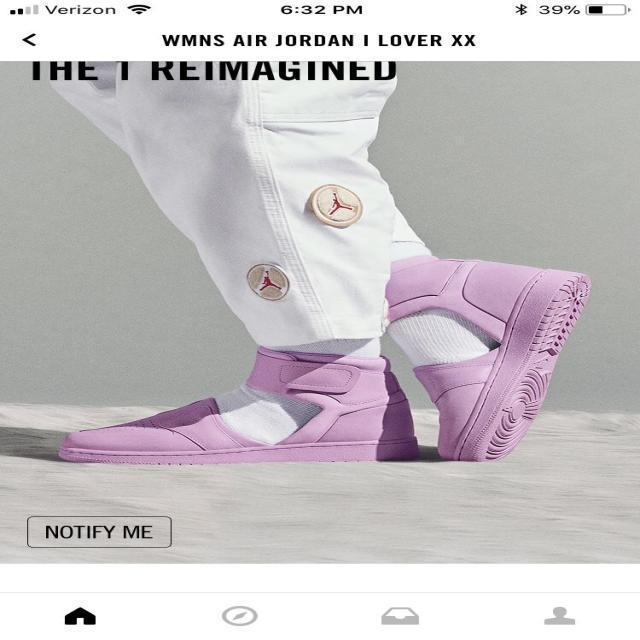shoes: (50, 321, 399, 491), (361, 246, 604, 469)
